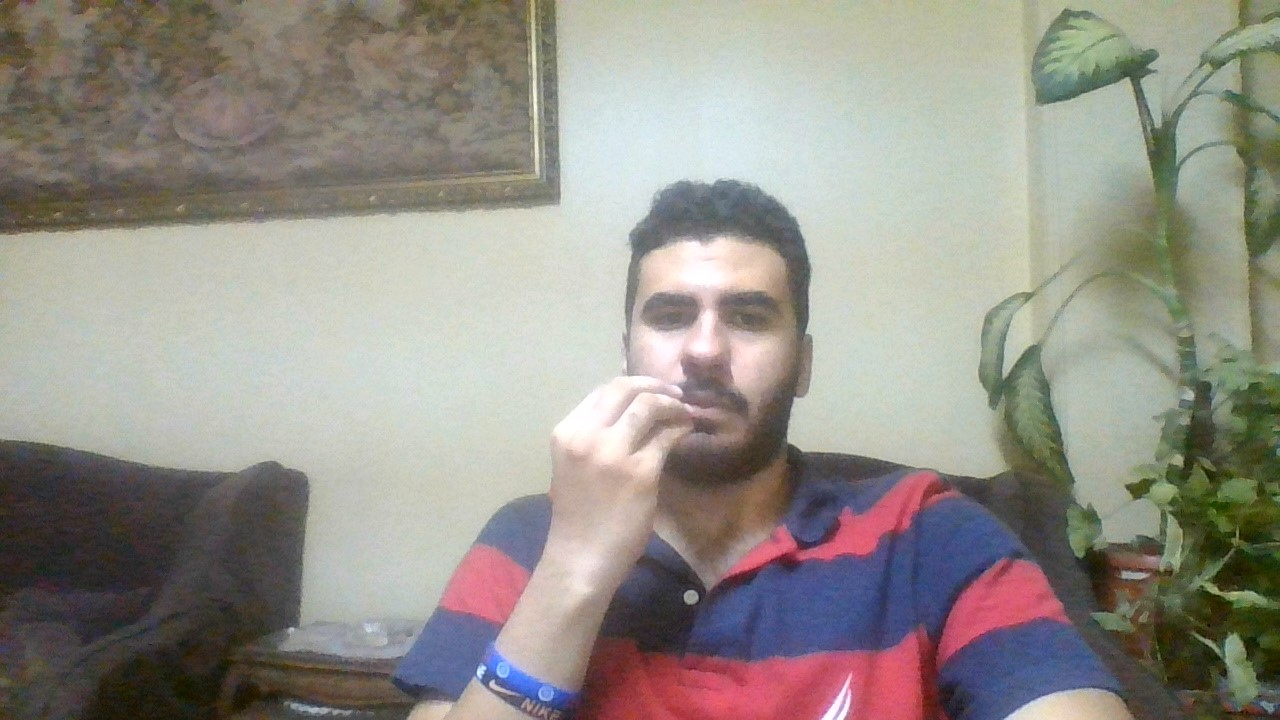eat: (536, 364, 688, 561)
